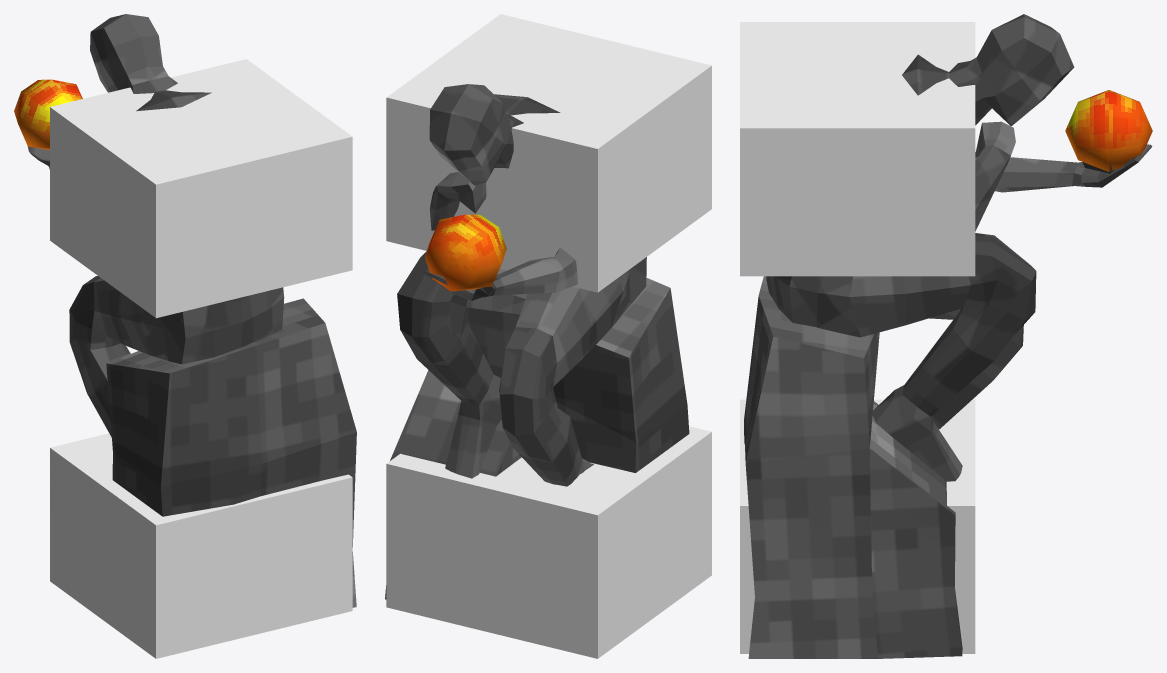
File: Statue.fbx
3 renders of one model, left to right at view 1: azimuth 30°, elevation 25°; view 2: azimuth 150°, elevation 25°; view 3: azimuth 270°, elevation 25°, orthographic. The views are drawn at different scales.
Visible parts, largest first — view 1: Cube, Statue, Cube (1), Sphere_8; view 2: Statue, Cube, Cube (1), Sphere_8; view 3: Statue, Cube, Cube (1), Sphere_8.
Part boxes in pixels (box(x1,y1,x2,y2)): Cube: box(50, 59, 352, 318); Statue: box(27, 14, 356, 607); Cube (1): box(50, 433, 352, 658); Sphere_8: box(14, 79, 82, 149); Statue: box(385, 84, 689, 599); Cube: box(386, 14, 711, 292); Cube (1): box(386, 426, 711, 658); Sphere_8: box(424, 214, 506, 291); Statue: box(744, 14, 1152, 658); Cube: box(740, 22, 975, 276); Cube (1): box(740, 399, 975, 653); Sphere_8: box(1065, 90, 1152, 171).
Size of the model in its own units: 3.2 by 7.9 by 5.05.
Materials: 3 (2 with a texture image).
